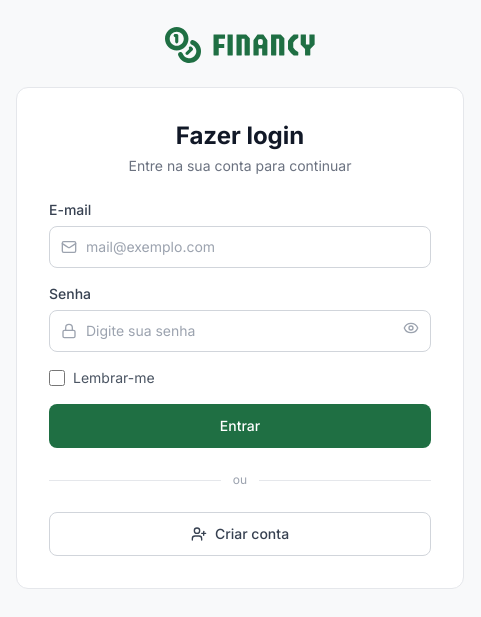
Test: LoginPage › validates the email before sending anything
Type "nao-e-um-email" into the field labelled "E-mail" at (240, 247), box [49,226,431,268]
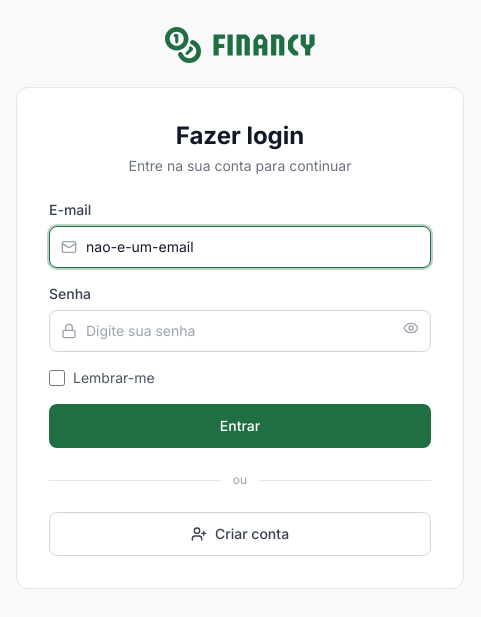
Type "uma-senha-boa" into the password field labelled "Senha" at (240, 331), box [49,310,431,352]
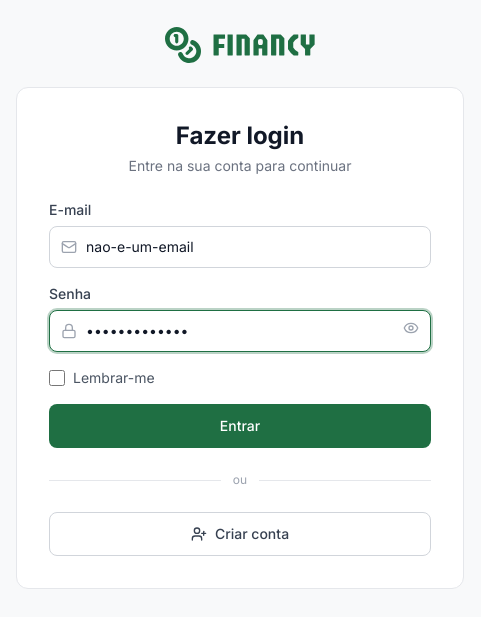
Click the button "Entrar" at (240, 426), box [49,404,431,448]
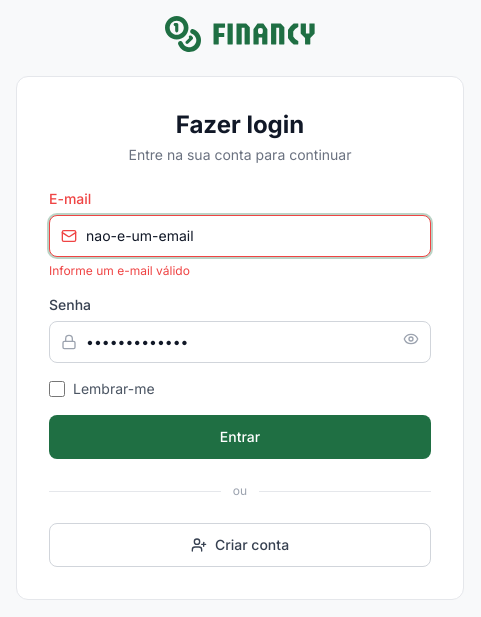
Check: the text "Informe um e-mail válido" is shown, box [49,263,190,278]
